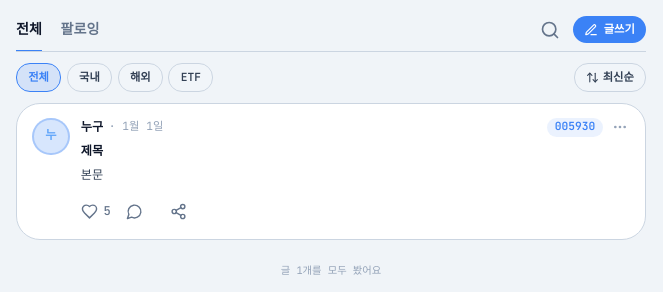
어긋났을 때 스스로 돌아온다 › 서버가 '취소됐다' 고 하면 화면도 취소로 맞춘다
Click the button named "좋아요 5": (96,212) [73, 192, 118, 232]
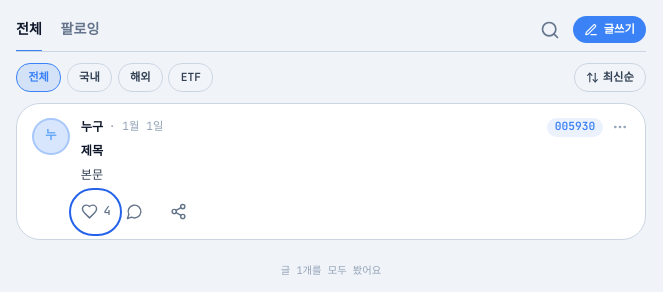
expect the button named "좋아요 4" is shown: met, box [73, 192, 118, 232]
